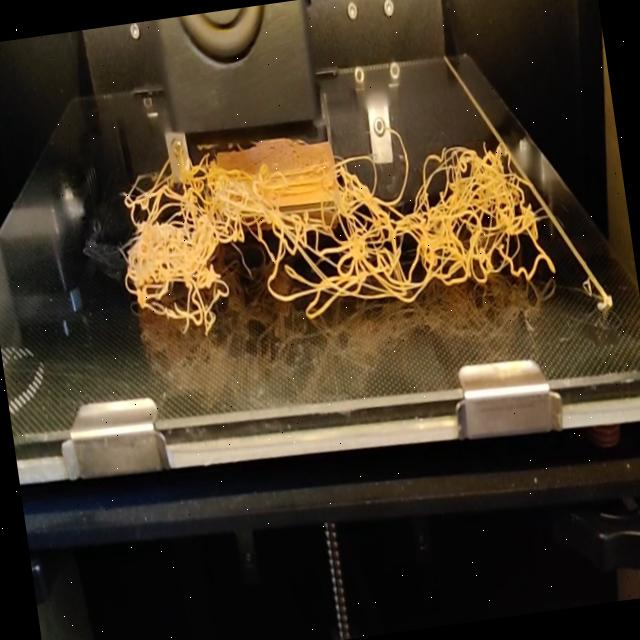spaghetti: (102, 107, 560, 346)
